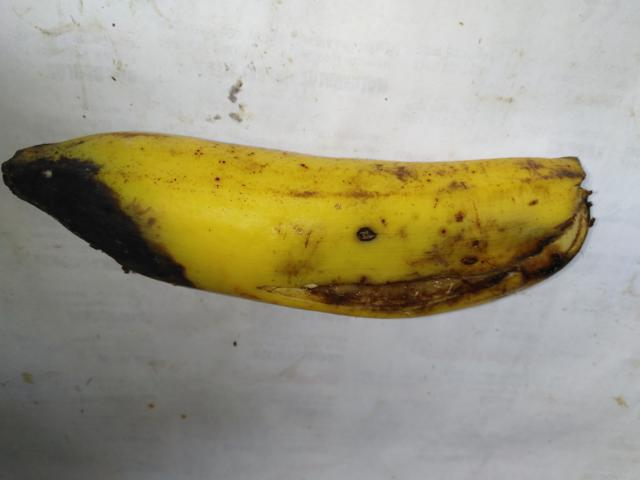rotten: (286, 172, 600, 339), (0, 126, 184, 323)
